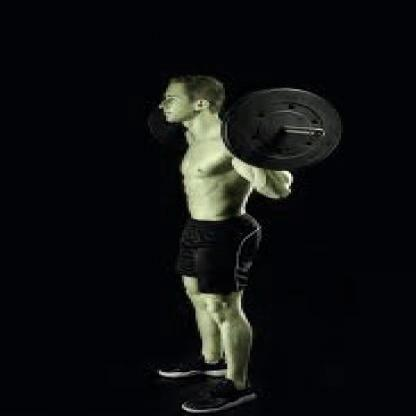Barbell: (306, 125, 330, 143)
